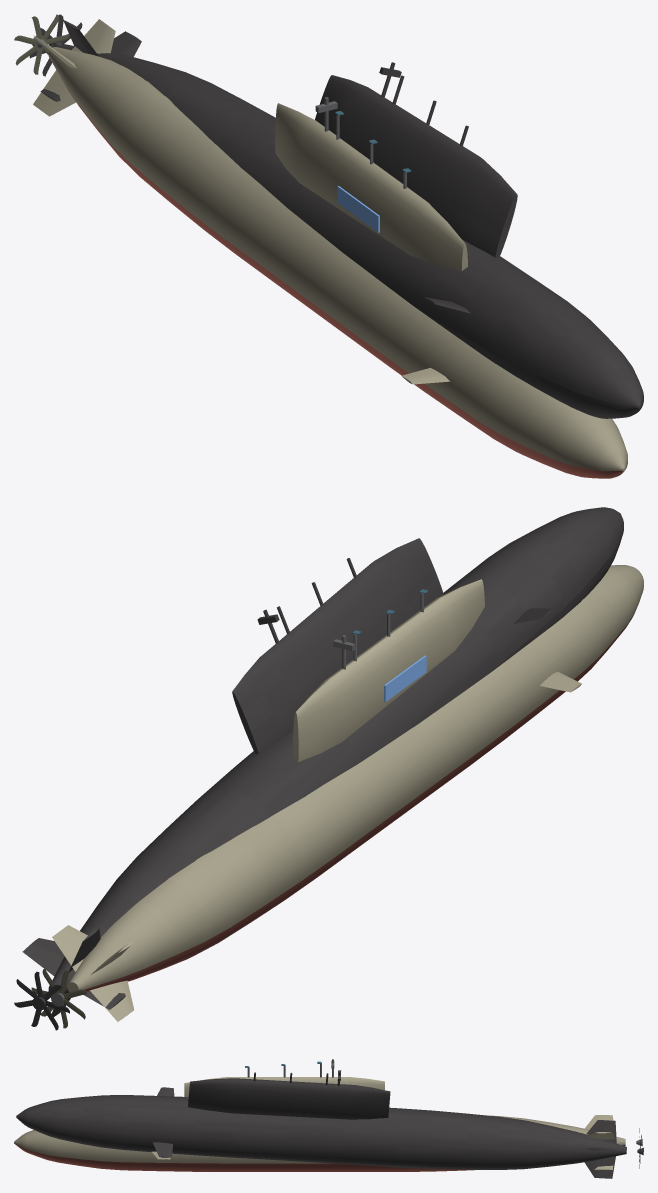
File: submarine__drakon.glb
3 renders of one model, top to bottom at view 1: azimuth 30°, elevation 25°; view 2: azimuth 150°, elevation 25°; view 3: azimuth 270°, elevation 25°, orthographic. The views are drawn at different scales.
Visible parts, largest first — view 1: Hull_Mesh, Wreck; view 2: Hull_Mesh, Wreck; view 3: Wreck, Hull_Mesh.
Part boxes in pixels (<box>): Hull_Mesh: <box>14,14,627,478</box>; Wreck: <box>29,14,643,418</box>; Hull_Mesh: <box>31,565,643,1028</box>; Wreck: <box>14,507,623,1030</box>; Wreck: <box>16,1070,643,1178</box>; Hull_Mesh: <box>14,1061,642,1171</box>.
Size of what is drawn, in the model's own units: 11.93 by 14.79 by 72.19.
